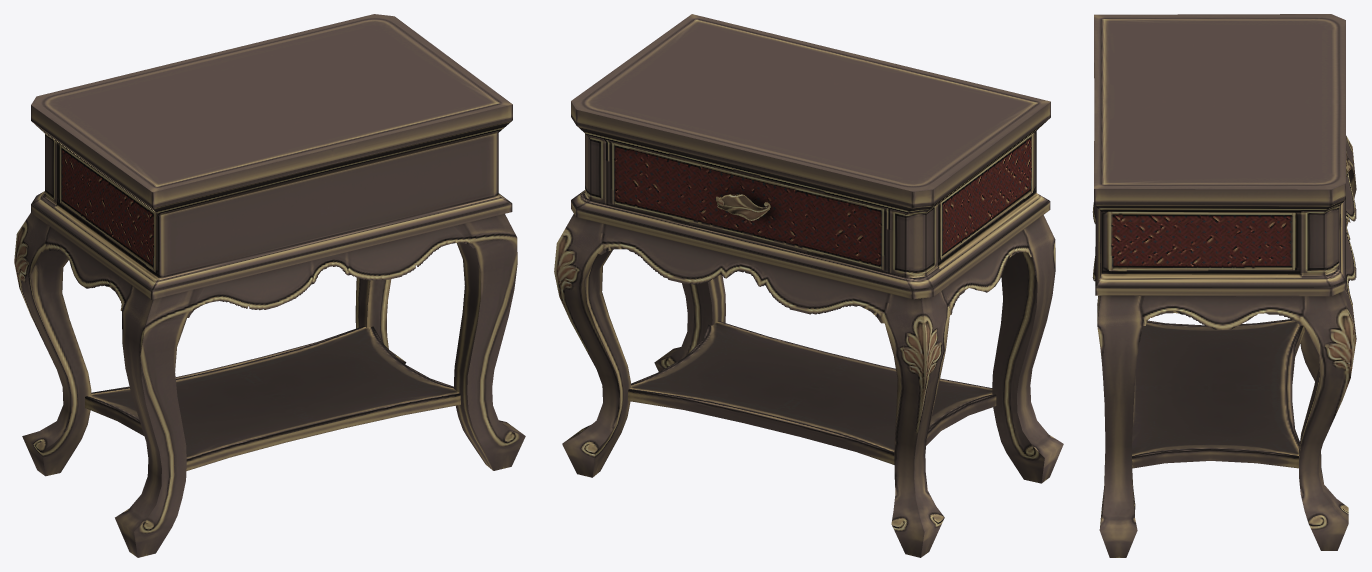
File: BedsideCabinet01.FBX
3 renders of one model, left to right at view 1: azimuth 30°, elevation 25°; view 2: azimuth 150°, elevation 25°; view 3: azimuth 270°, elevation 25°, orthographic.
Parts seen in each view (by area): view 1: BedsideCabinet01; view 2: BedsideCabinet01; view 3: BedsideCabinet01.
Boxes of the visible parts, x1,y1,x2,y2 form: BedsideCabinet01: (14, 14, 525, 557); BedsideCabinet01: (554, 14, 1063, 557); BedsideCabinet01: (1092, 14, 1356, 557).
Bounding box in the file's own units: 135 × 79.92 × 121.
